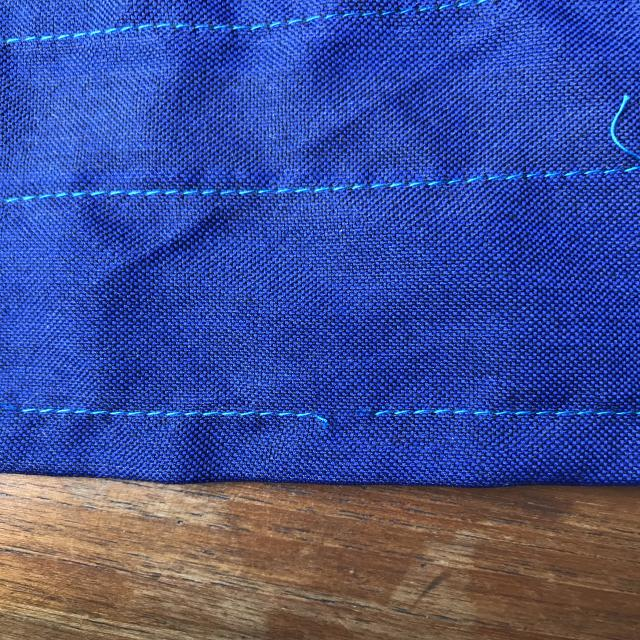broken: (286, 392, 403, 439)
good: (240, 175, 366, 214), (63, 176, 186, 215)
